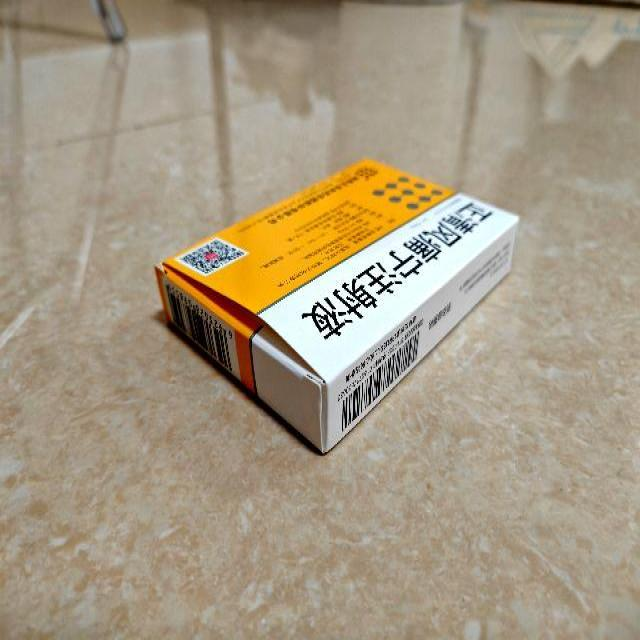box: (157, 157, 521, 456)
